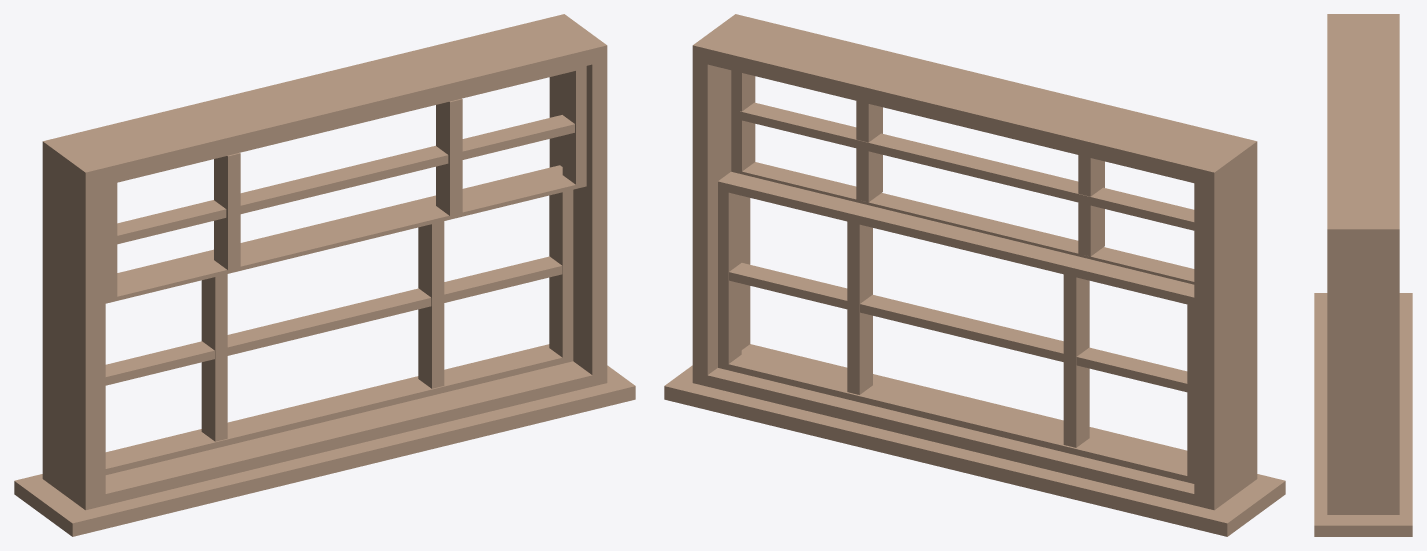
File: largeWindow.gltf
3 renders of one model, left to right at view 1: azimuth 30°, elevation 25°; view 2: azimuth 150°, elevation 25°; view 3: azimuth 270°, elevation 25°, orthographic. The views are drawn at different scales.
Parts seen in each view (by area): view 1: frame_wondow, lower_panel_window, upper_panel_window; view 2: frame_wondow, lower_panel_window, upper_panel_window; view 3: frame_wondow.
Part boxes in pixels (bbox=[...]): frame_wondow: bbox=[14, 14, 635, 536]; lower_panel_window: bbox=[105, 165, 573, 474]; upper_panel_window: bbox=[105, 66, 586, 303]; frame_wondow: bbox=[664, 14, 1285, 536]; lower_panel_window: bbox=[718, 171, 1194, 483]; upper_panel_window: bbox=[731, 70, 1194, 284]; frame_wondow: bbox=[1314, 14, 1412, 536].
Bounding box in the file's own units: 0.6529 × 0.3917 × 0.1171.
Materials: 1 (1 with a texture image).
